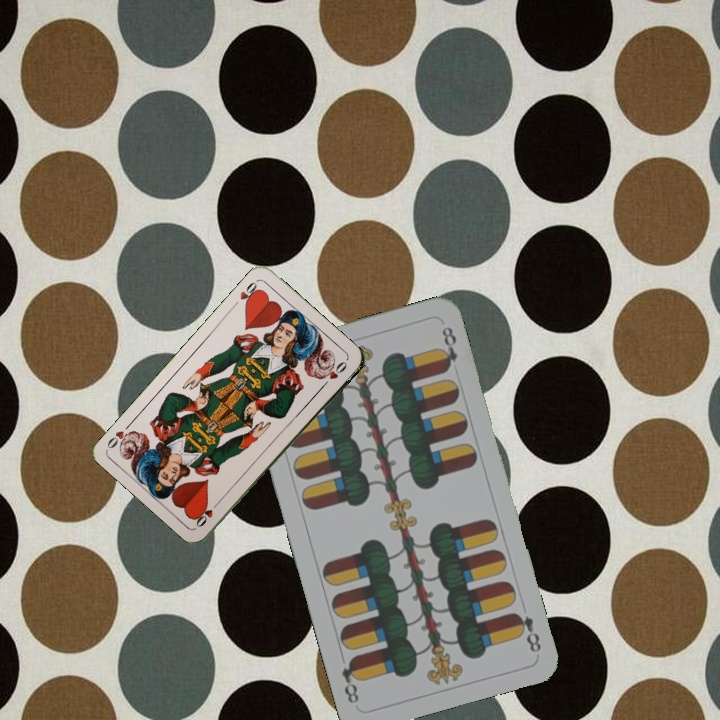E8: (509, 608, 544, 655)
HO: (229, 277, 263, 310), (192, 496, 223, 530)
